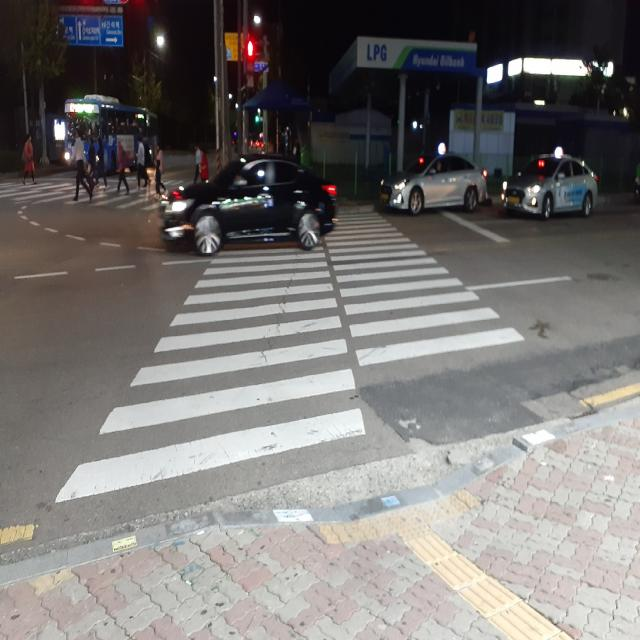빨간불: (246, 40, 256, 89)
횡단보도: (53, 214, 526, 505)
